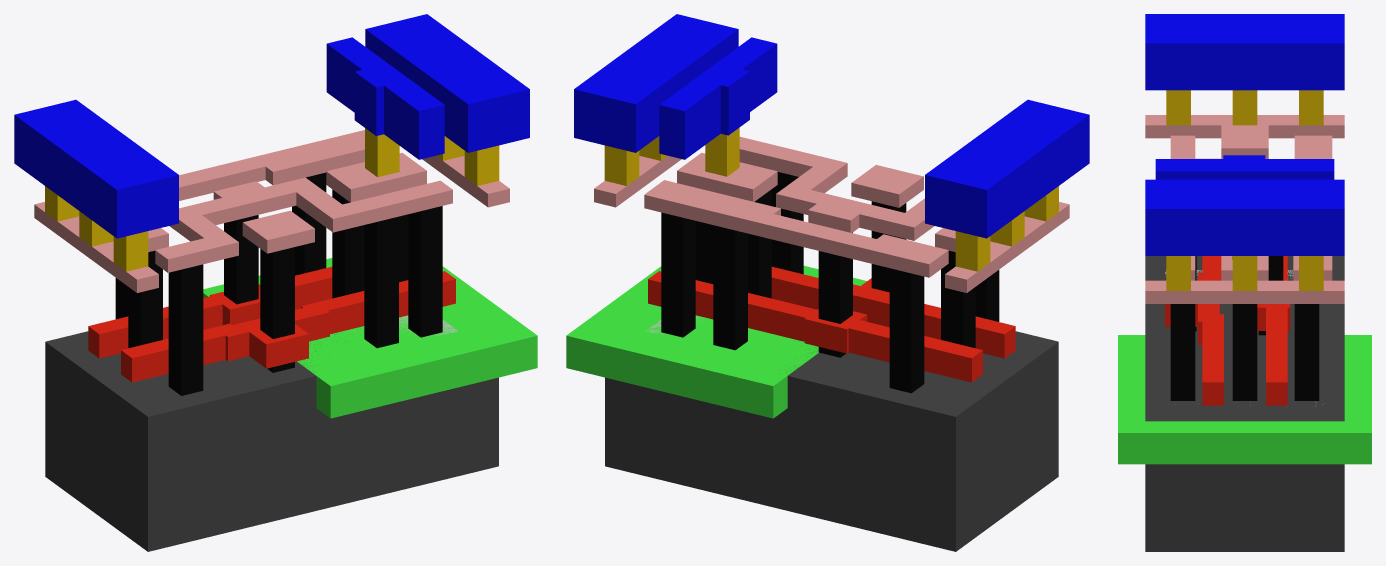
Rendered from sky130_fd_sc_hd__lpflow_clkbufkapwr_1.obj.
3 renders of one model, left to right at view 1: azimuth 30°, elevation 25°; view 2: azimuth 150°, elevation 25°; view 3: azimuth 270°, elevation 25°, orthographic. The views are drawn at different scales.
Parts seen in each view (by area): view 1: subs, metal1, licon, li, nwell, poly, mcon; view 2: subs, metal1, li, licon, nwell, poly, mcon; view 3: metal1, subs, nwell, li, licon, poly, mcon.
Part boxes in pixels (x1,y1,x2,y2): subs: [45, 331, 498, 551]; metal1: [14, 14, 529, 238]; licon: [115, 172, 442, 395]; li: [34, 130, 509, 292]; nwell: [203, 258, 537, 418]; poly: [88, 266, 455, 382]; mcon: [45, 128, 499, 271]; subs: [605, 331, 1058, 551]; metal1: [574, 14, 1089, 238]; li: [594, 136, 1069, 292]; licon: [661, 172, 999, 393]; nwell: [566, 265, 866, 418]; poly: [648, 266, 1015, 382]; mcon: [604, 127, 1058, 271]; metal1: [1145, 14, 1344, 255]; subs: [1145, 256, 1344, 551]; nwell: [1118, 335, 1371, 464]; li: [1145, 115, 1344, 303]; licon: [1170, 256, 1319, 400]; poly: [1165, 256, 1290, 405]; mcon: [1166, 90, 1323, 290].
Bounding box in the file's own units: 3.2 × 2.74 × 1.76.
